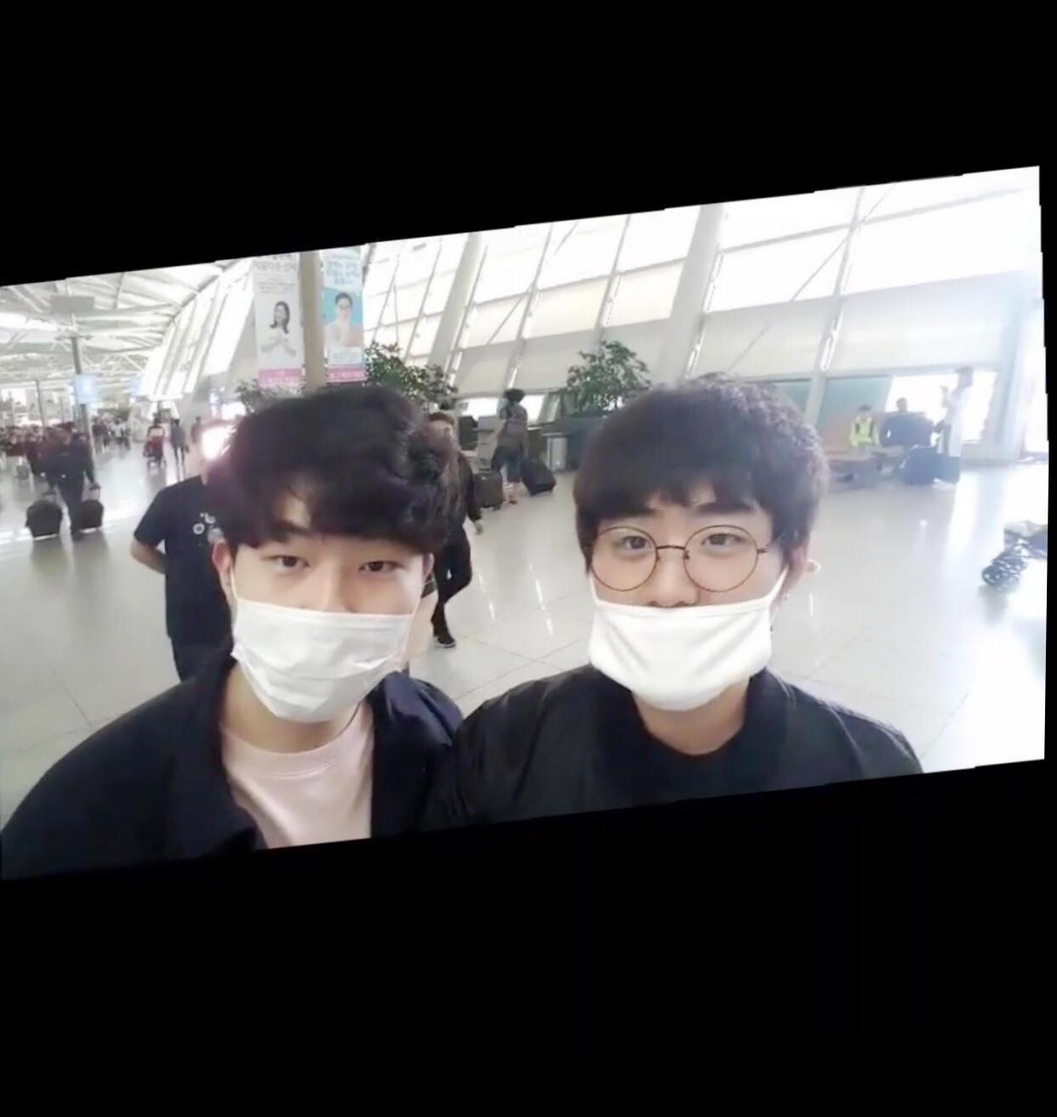WRONG: (226, 493, 433, 739), (580, 496, 793, 731)
